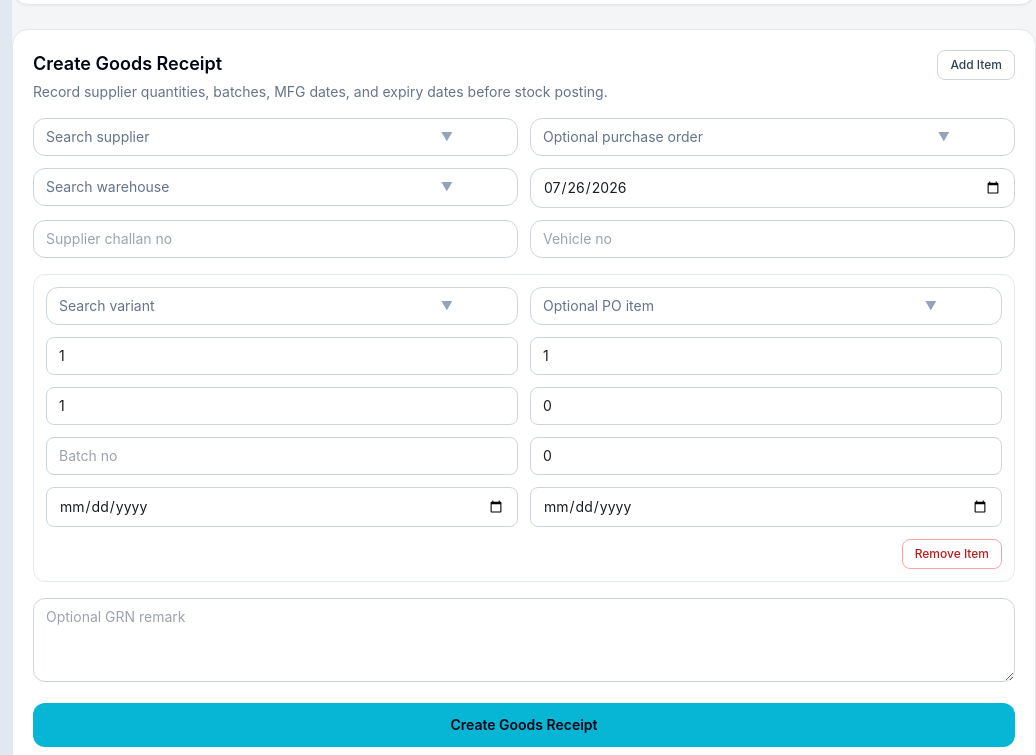
Test: GoodsReceiptListView › shows validation when GRN create is submitted without required supplier and warehouse
(page scrolled)
Click the button "Create Goods Receipt".
click(524, 725)  # box x1=33 y1=703 x2=1015 y2=747
(page scrolled)
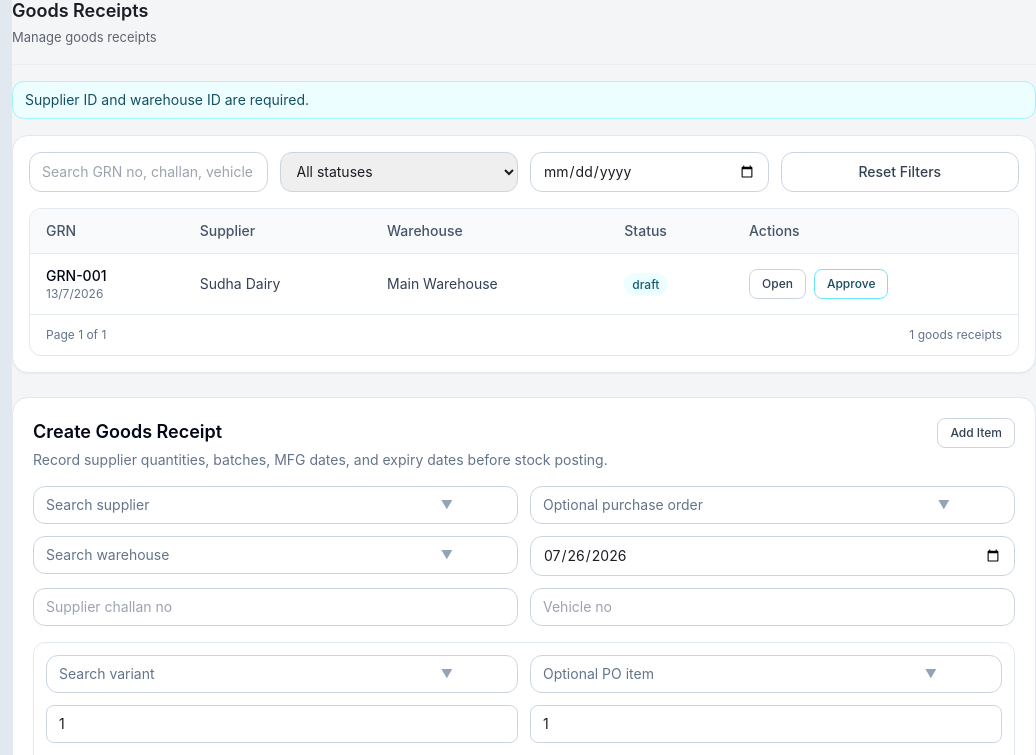
Check: the text "Supplier ID and warehouse ID are required." is shown, box x1=12 y1=81 x2=1035 y2=119
